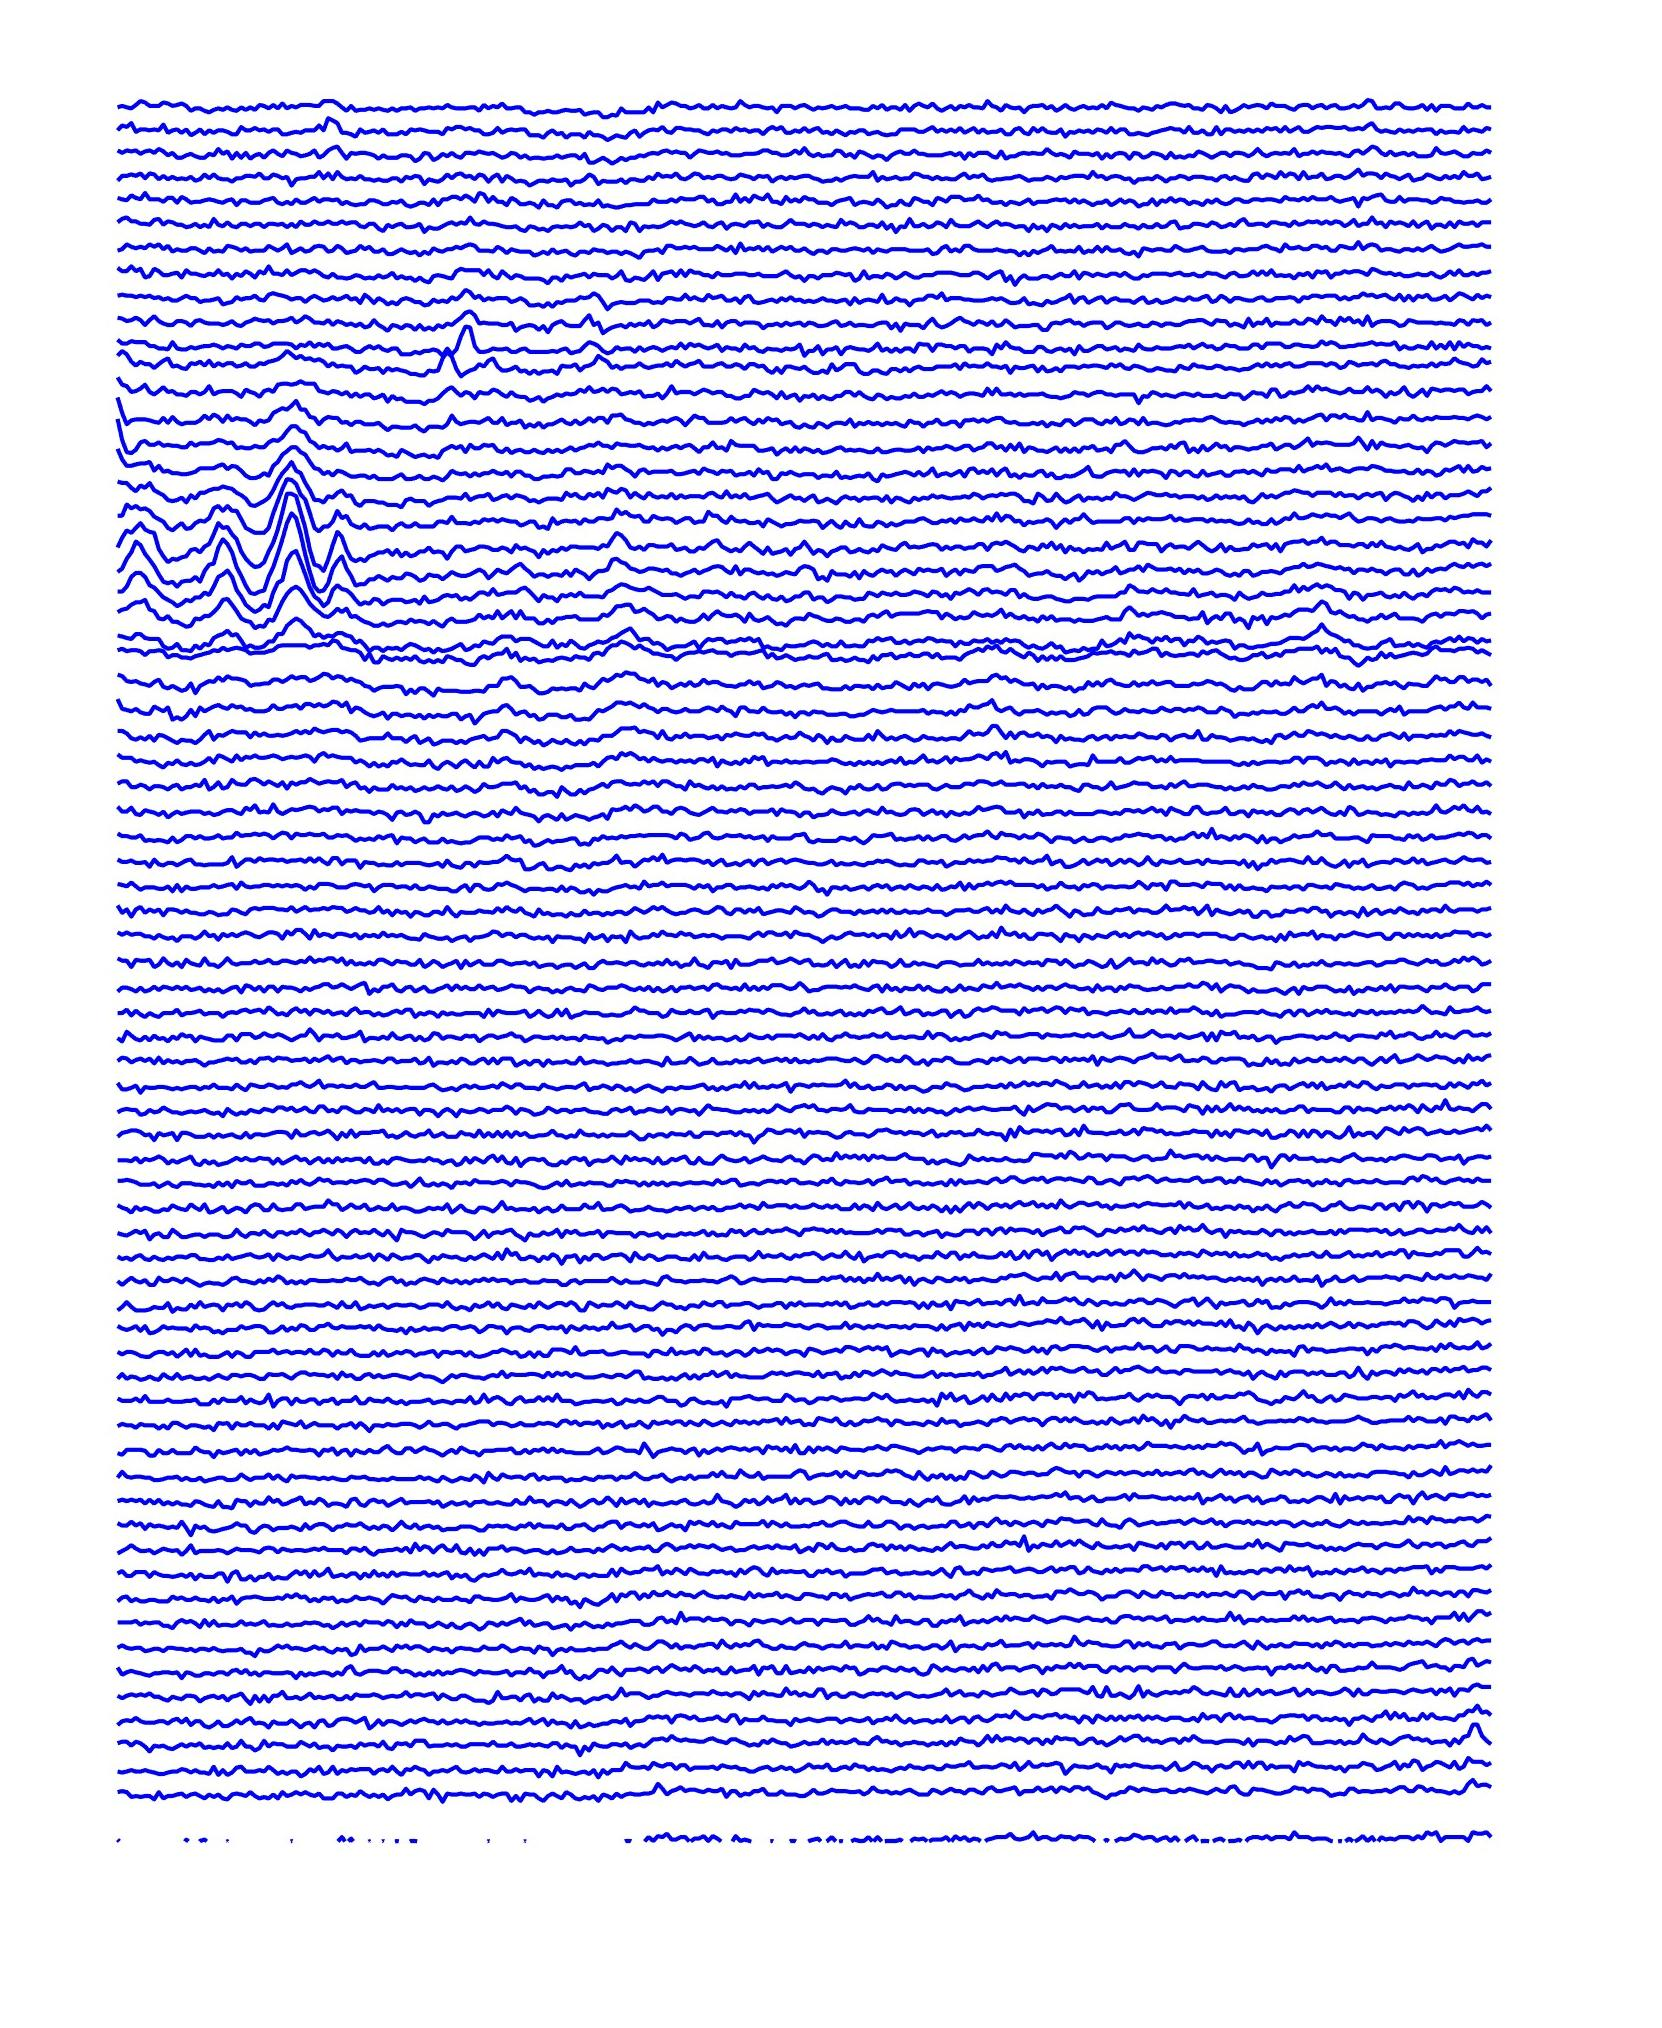defect: (192, 445, 364, 632), (423, 295, 492, 398)
